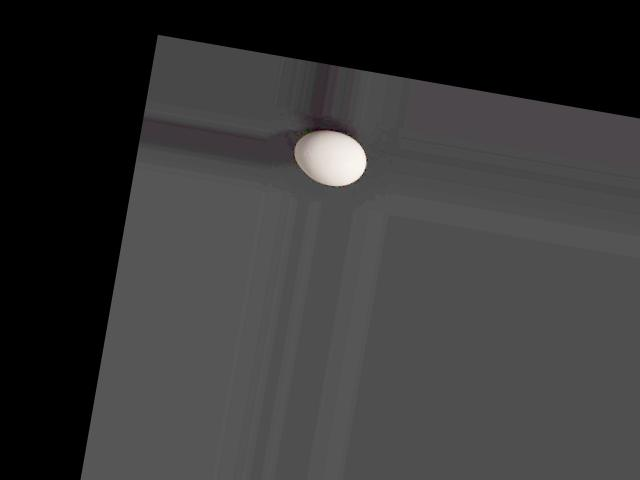egg: (290, 125, 371, 190)
